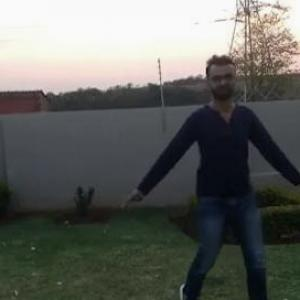land: (153, 79, 276, 260)
